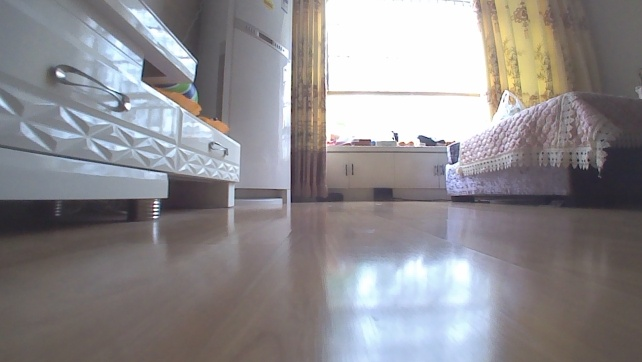TV_stand1: (0, 0, 245, 223)
sofa1: (440, 86, 641, 209)
